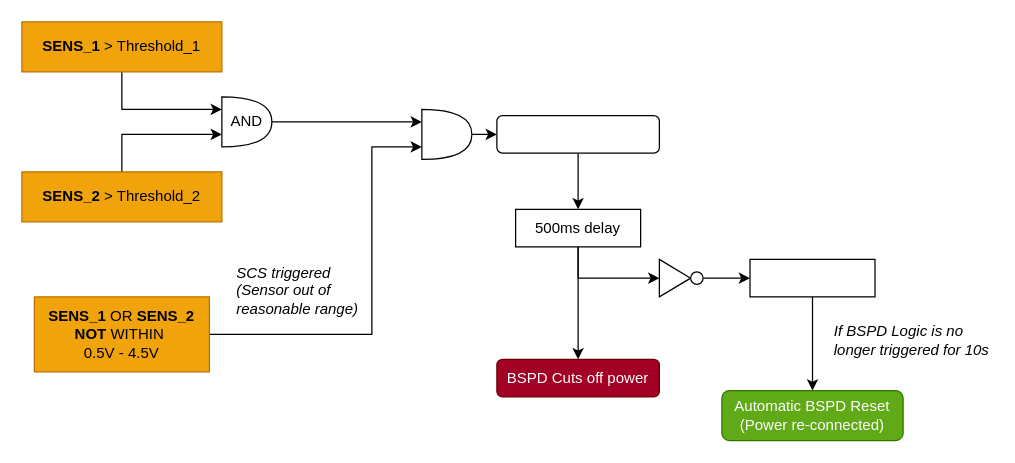
The diagram is 1015 pixels wide and 463 high, and some of its shapes have lost their labels. The shapes that lost their labels are listed below. From the top down, each one's centre as x and y in pixels, then its label:
At point (446, 133): "OR".
At point (577, 133): "BSPD Logic triggered".
At point (812, 277): "10s Delay".
